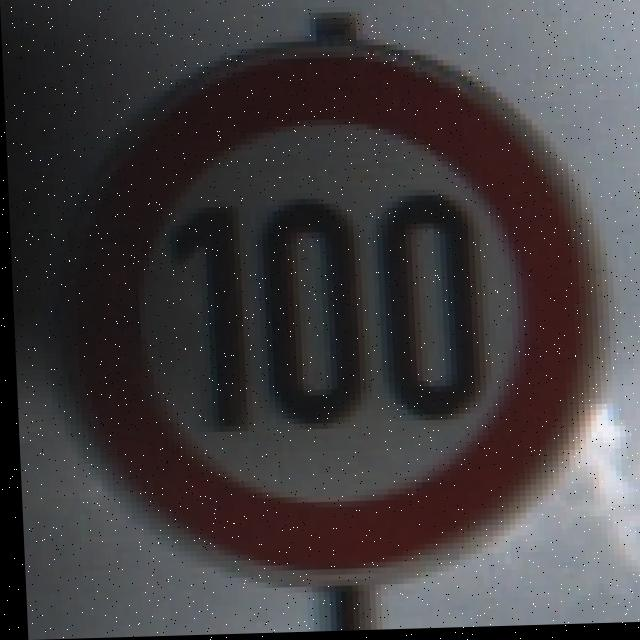speed_limit_100: (60, 47, 630, 584)
